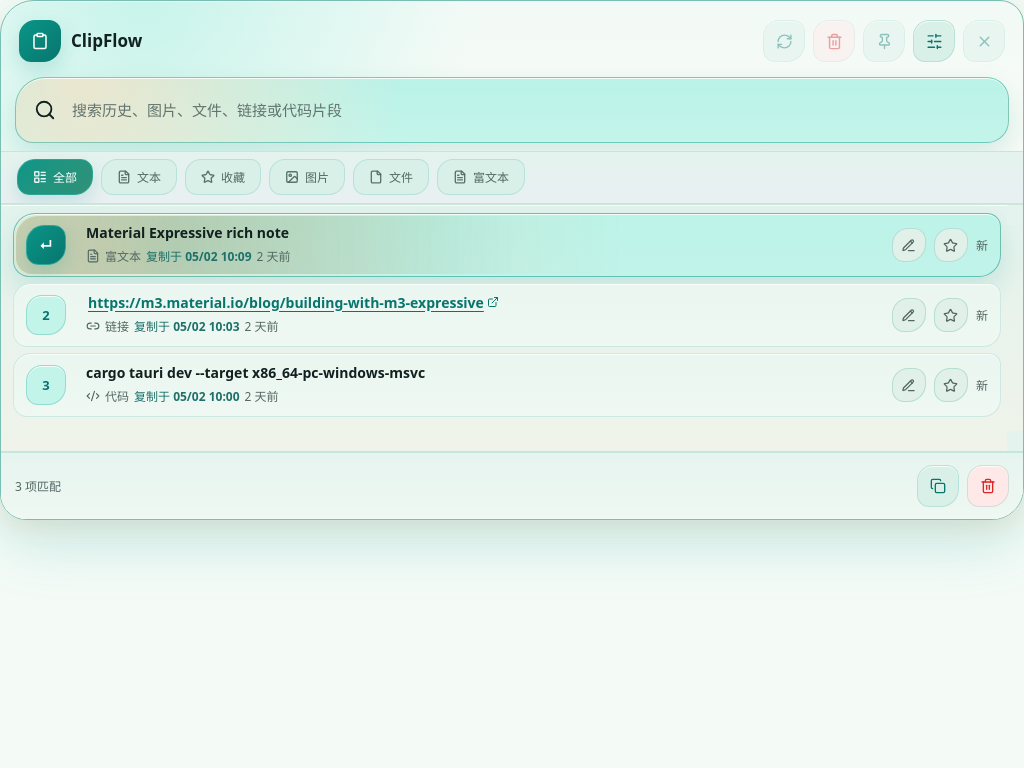
SearchPanel › filters rich text clips
Click the tab "富文本" at x=481, y=177, box [437,159,525,195]
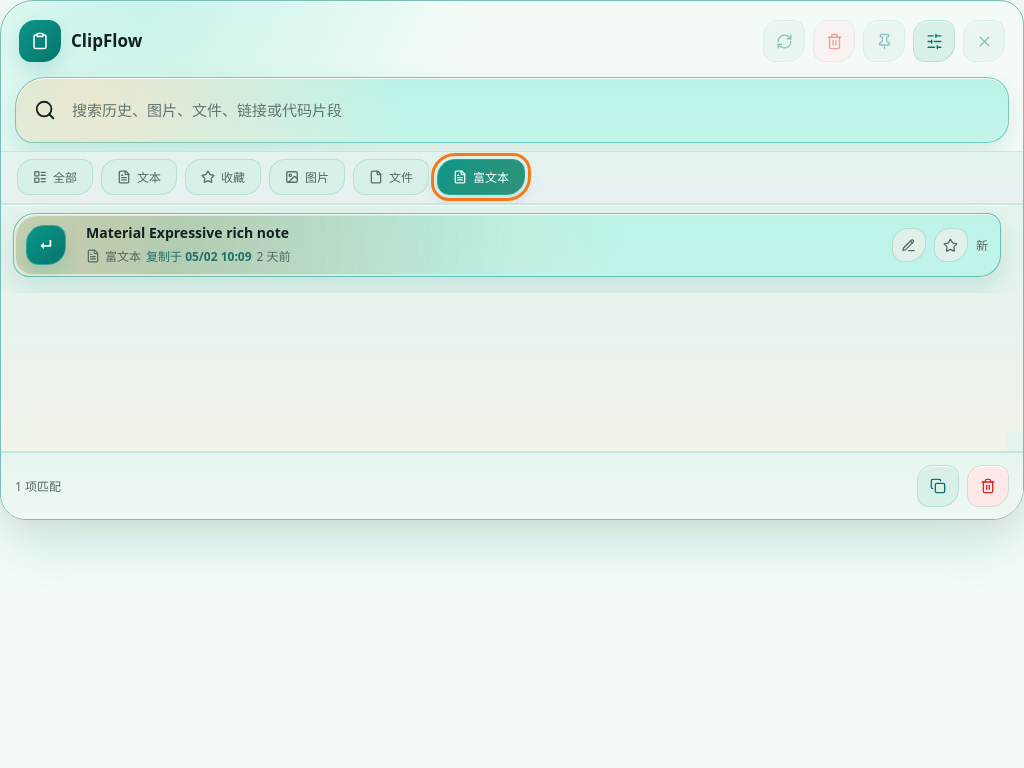
Check: the text "Material Expressive rich note" is shown, box [86,222,289,242]
Check: the option "cargo tauri dev --target x86_64-pc-windows-msvc" is gone
